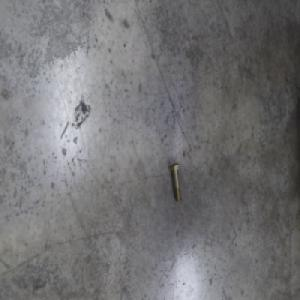Bolt: (171, 161, 184, 203)
